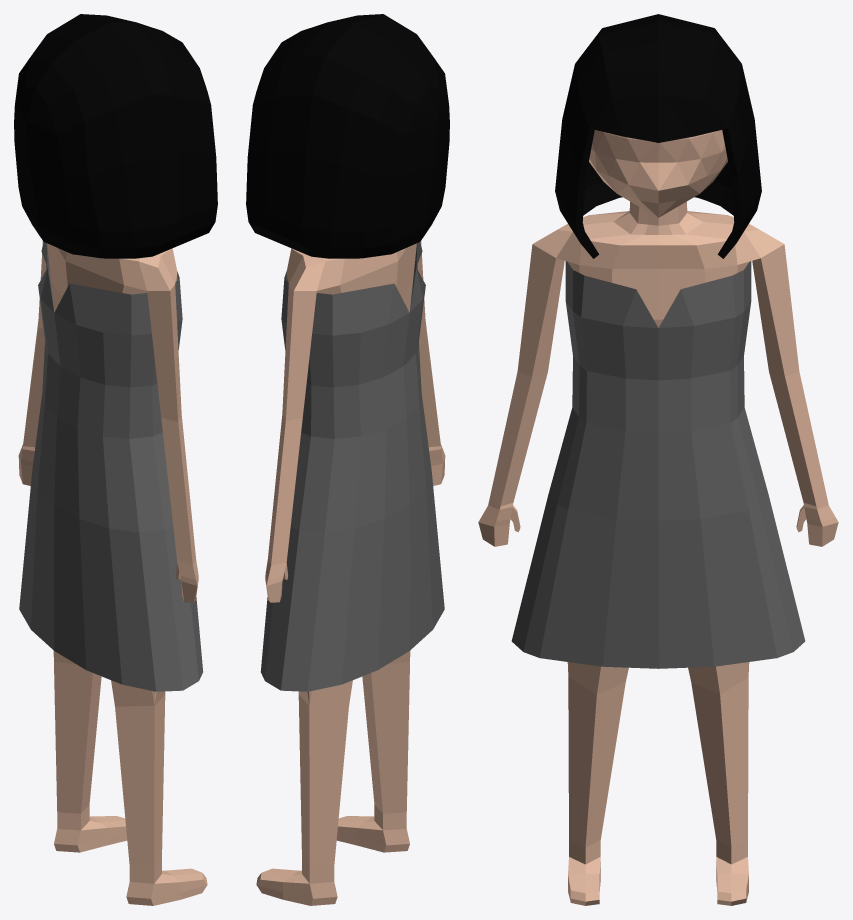
The model's file is pythariel.fbx.
The picture shows the model from 3 angles, left to right: view 1: azimuth 30°, elevation 25°; view 2: azimuth 150°, elevation 25°; view 3: azimuth 270°, elevation 25°; orthographic projection.
Visible parts, largest first — view 1: Cylinder, pythariel_hair, pythariel_body; view 2: Cylinder, pythariel_hair, pythariel_body; view 3: Cylinder, pythariel_body, pythariel_hair.
Part boxes in pixels (<box>): Cylinder: <box>19,242,203,691</box>; pythariel_hair: <box>14,14,217,258</box>; pythariel_body: <box>18,241,207,905</box>; Cylinder: <box>260,242,444,691</box>; pythariel_hair: <box>246,14,449,258</box>; pythariel_body: <box>256,241,445,905</box>; Cylinder: <box>511,261,805,668</box>; pythariel_body: <box>478,130,838,905</box>; pythariel_hair: <box>555,14,761,258</box>.
Size of the model in its own units: 217 by 1011 by 385.
